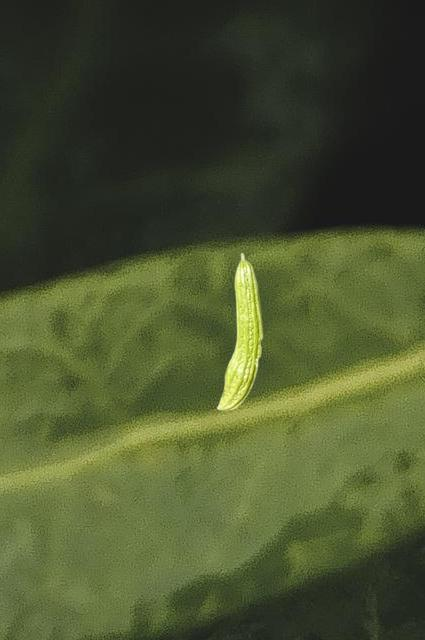ampalaya: (214, 252, 265, 412)
